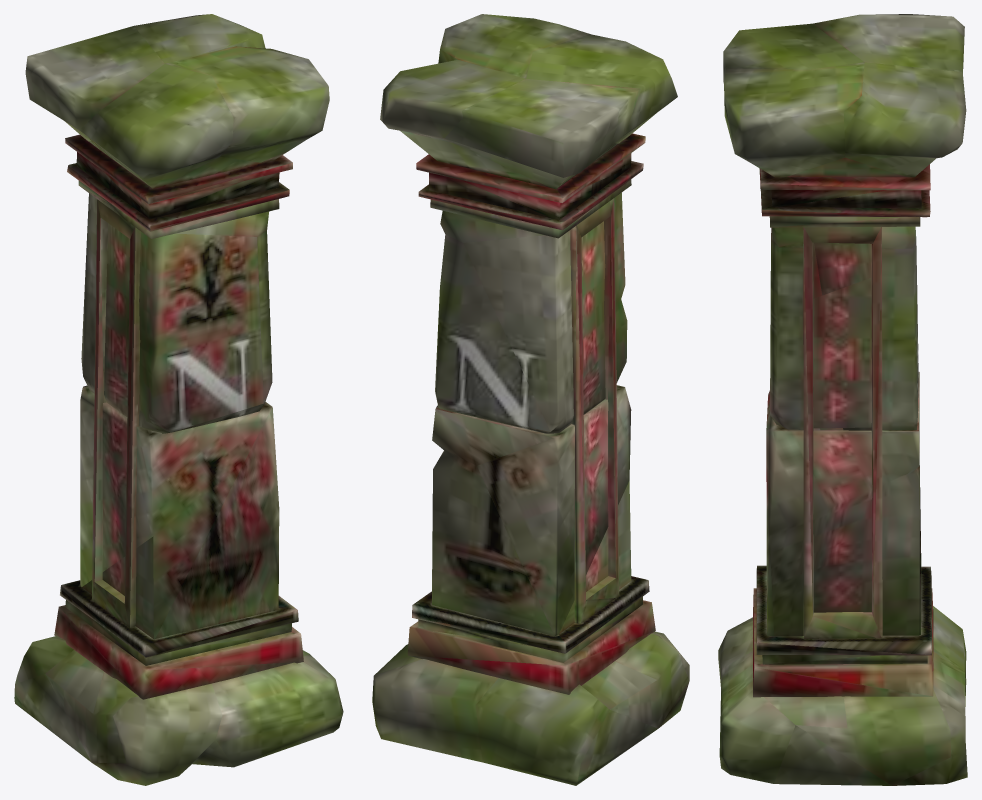
Rendered from neu2.glb.
3 renders of one model, left to right at view 1: azimuth 30°, elevation 25°; view 2: azimuth 150°, elevation 25°; view 3: azimuth 270°, elevation 25°, orthographic. The views are drawn at different scales.
Parts seen in each view (by area): view 1: mesh_node; view 2: mesh_node; view 3: mesh_node.
Part boxes in pixels (box(x1,y1,x2,y2)): mesh_node: box(14, 14, 343, 785); mesh_node: box(372, 14, 689, 785); mesh_node: box(718, 14, 967, 785).
Size of the model in its own units: 0.6947 by 2 by 0.6751.
1 material, 1 textured.
